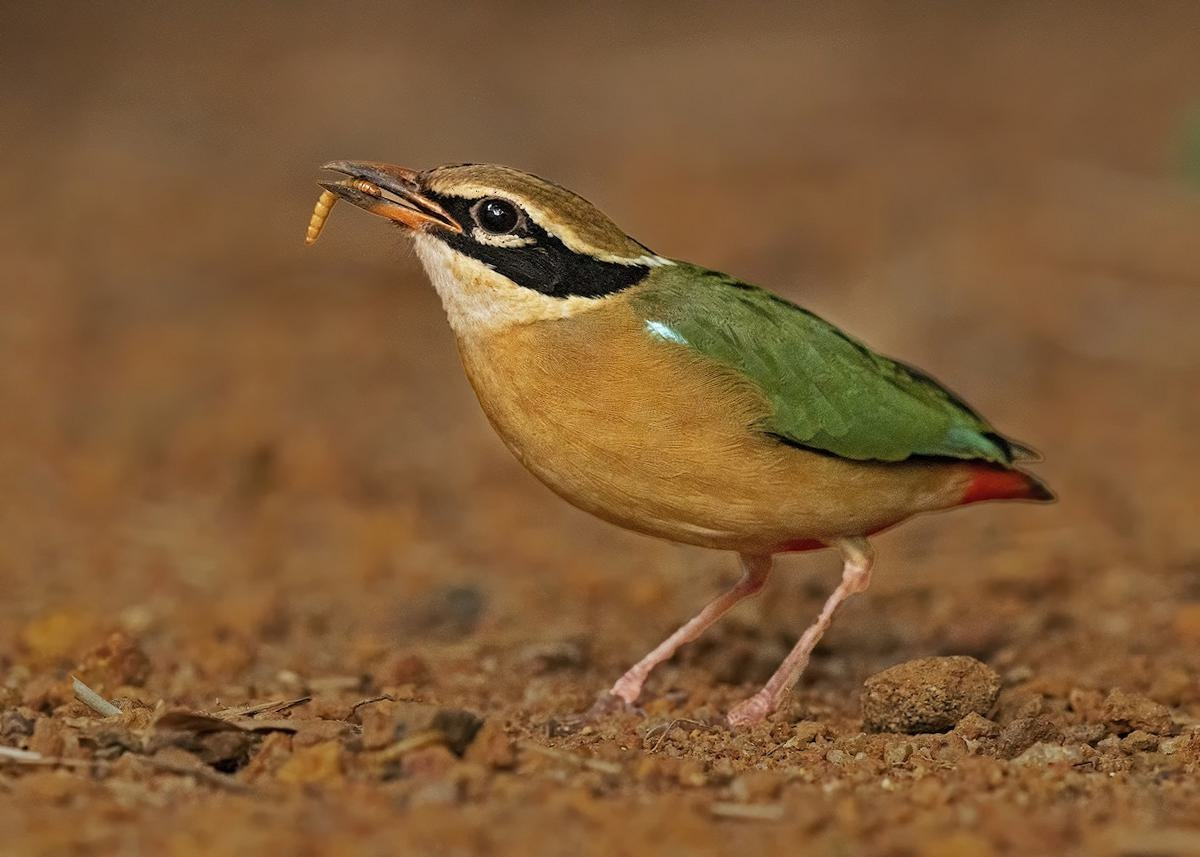pitta: (349, 121, 1047, 650)
